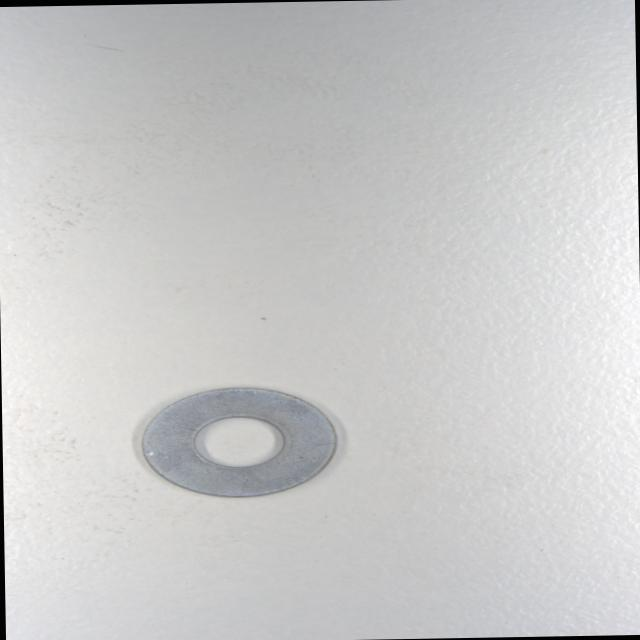washer: (139, 384, 339, 498)
